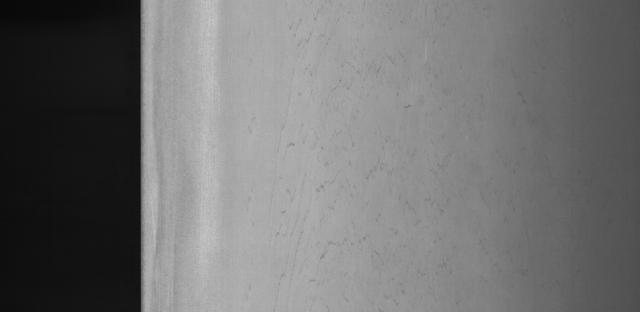silk_spot: (257, 0, 461, 267)
